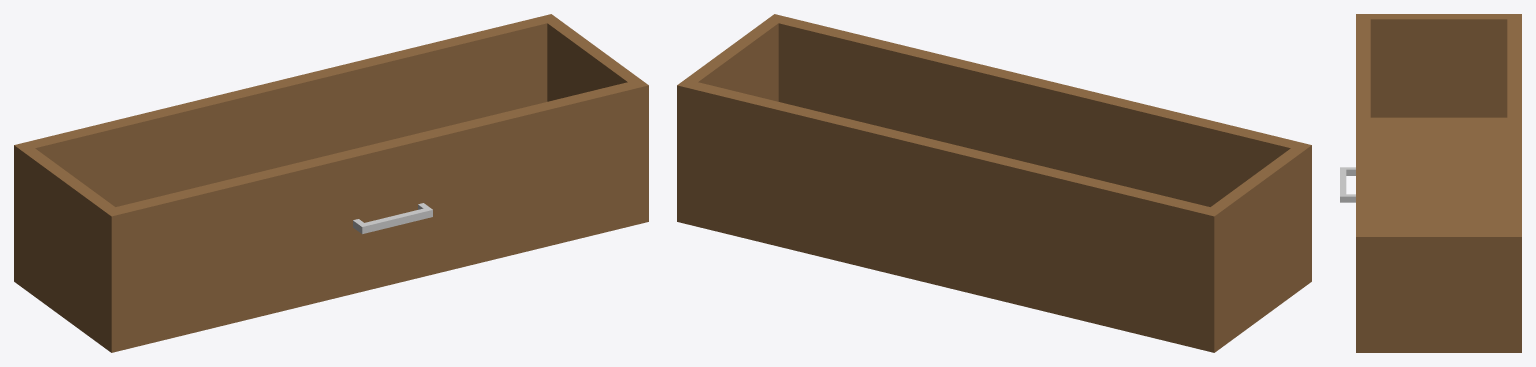
File: H_Bookcase_Drawer.fbx
3 views of the same model, side by side, from view 1: azimuth 30°, elevation 25°; view 2: azimuth 150°, elevation 25°; view 3: azimuth 270°, elevation 25° (orthographic). The views are drawn at different scales.
Visible parts, largest first — view 1: H_Bookcase_Drawer; view 2: H_Bookcase_Drawer; view 3: H_Bookcase_Drawer.
Part boxes in pixels (x1,y1,x2,y2): H_Bookcase_Drawer: (14, 14, 648, 352); H_Bookcase_Drawer: (677, 14, 1311, 352); H_Bookcase_Drawer: (1340, 14, 1521, 352).
Size of the model in its own units: 714 by 246 by 173.
